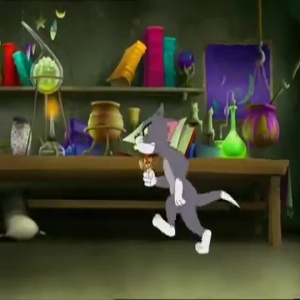Jerry: (138, 157, 154, 170)
Tom: (131, 104, 176, 155)
